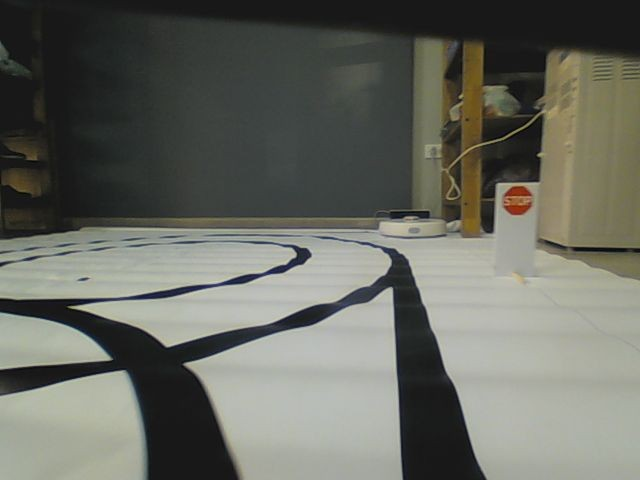Stop: (500, 186, 534, 218)
